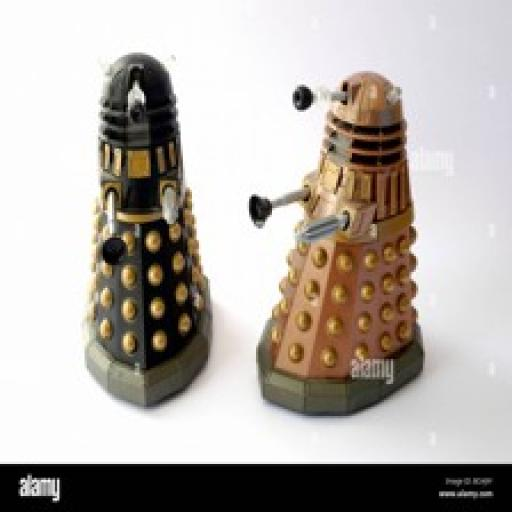dalek: (246, 63, 427, 426), (76, 51, 218, 407)
